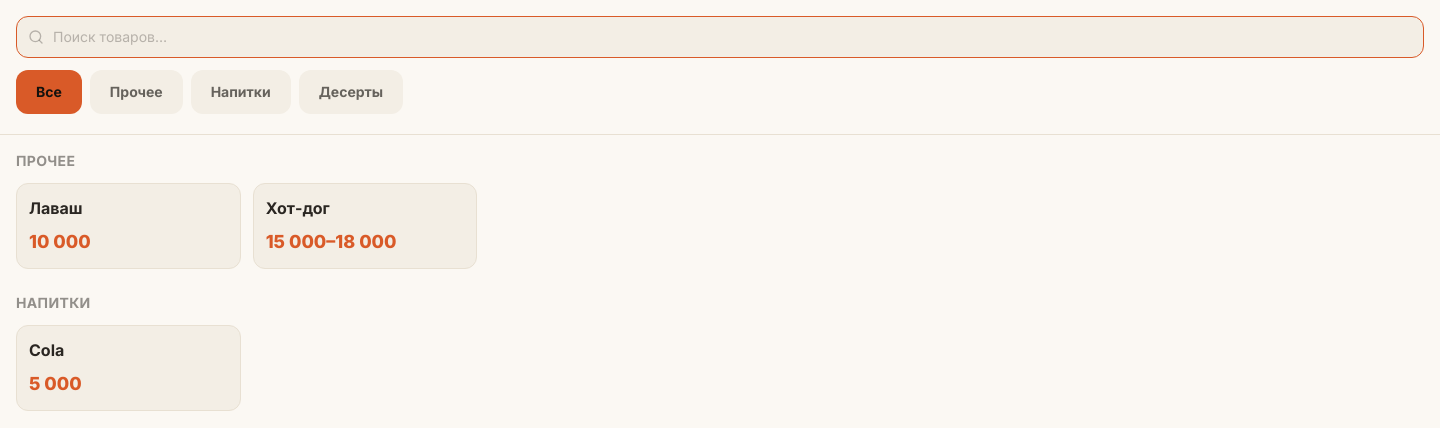
Scenario: PosMenu — category grouping (Barchasi/Все) › selecting a specific category shows only its products, no headings, no grouping
The image size is (1440, 428).
Click the button "Напитки" at point(241, 92), box [191,70,291,114]
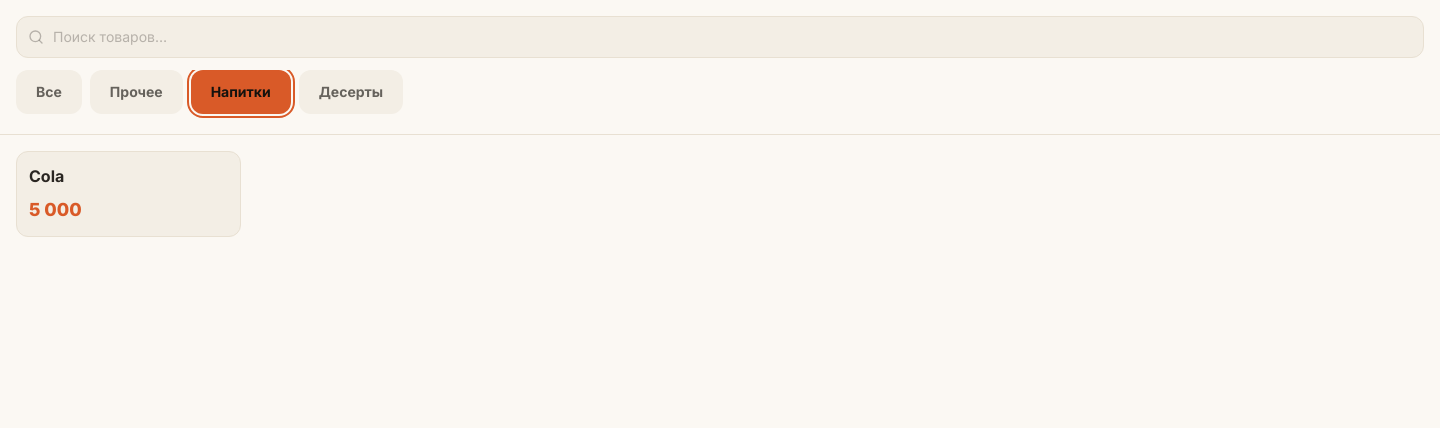
Check: no headings are shown
Check: the button "Лаваш" is gone
Check: the button "Хот-дог" is gone
